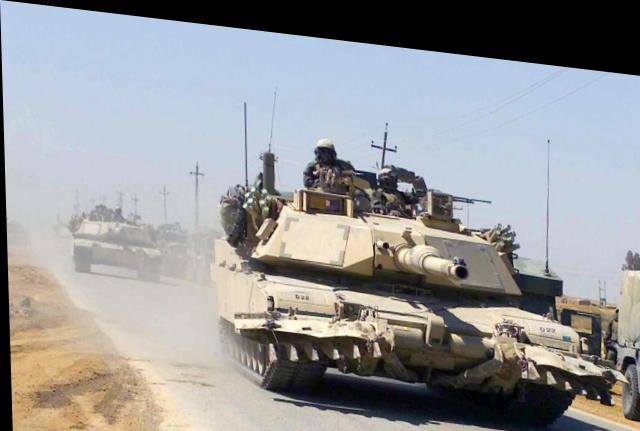tank: (204, 169, 598, 430), (36, 178, 174, 290)
